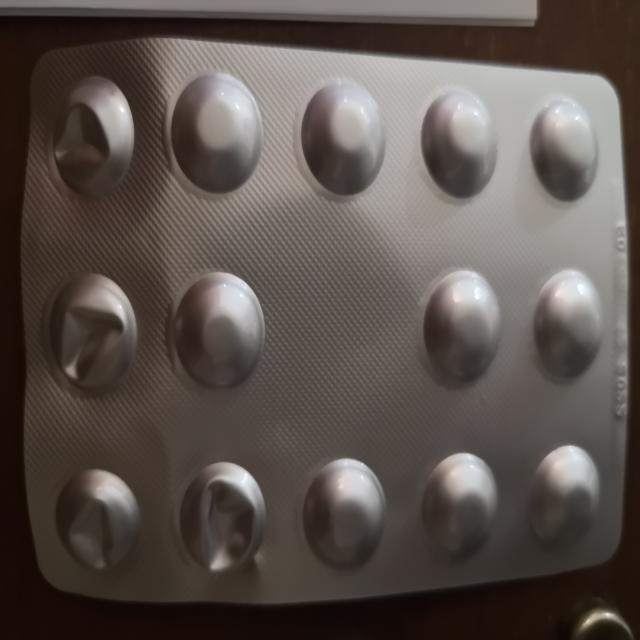Empty: (41, 270, 143, 402), (172, 453, 272, 586), (41, 71, 139, 199), (52, 467, 146, 588)
Pill: (166, 260, 269, 396), (166, 63, 265, 199), (295, 72, 388, 200), (295, 453, 392, 575), (417, 260, 506, 392), (416, 77, 503, 206), (415, 446, 504, 566), (522, 91, 605, 206), (532, 261, 606, 385), (529, 434, 606, 553)
